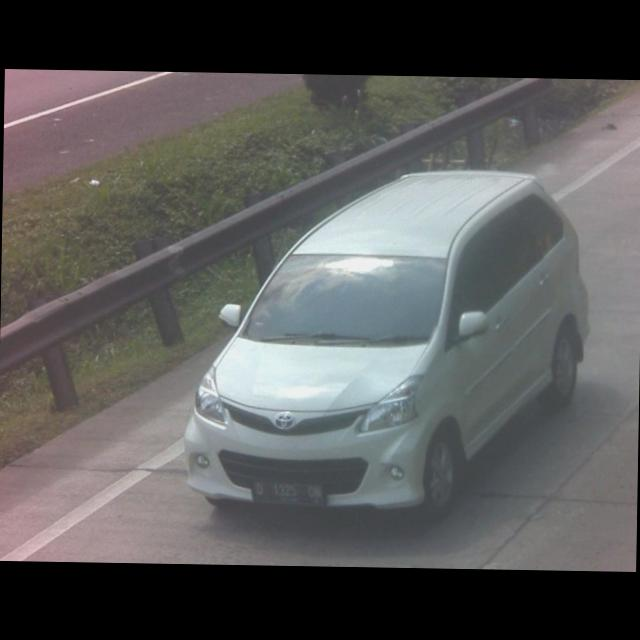plate: (247, 478, 325, 507)
